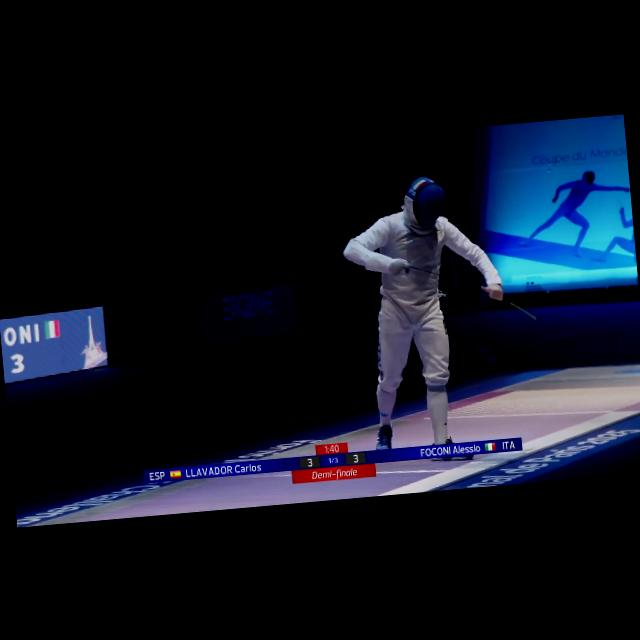blade: (396, 244, 540, 334)
